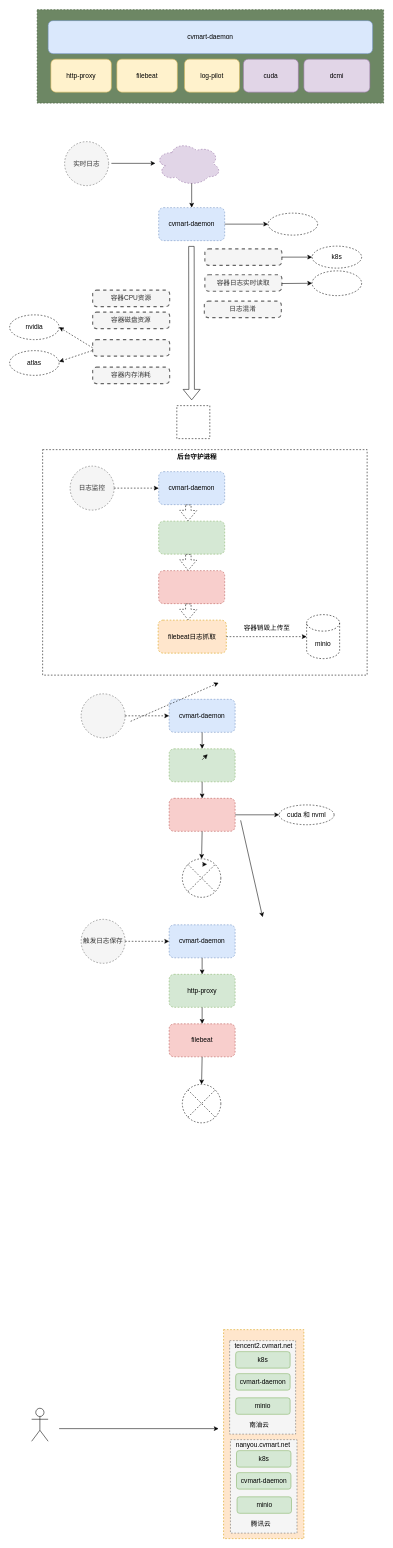
Image size: 393x1548. Some labels were removed from this diagram. The shapes that lost their labels are listed below. From the top down, each one's centre as x and y in pixels, then its label:
At point (188, 163): "loadBalance".
At point (293, 224): "注册长连接".
At point (243, 257): "POD发起进度监控".
At point (337, 283): "docker".
At point (131, 347): "GPU使用情况".
At point (193, 422): "xterm 终端渲染".
At point (191, 537): "监控本机容器发起事件".
At point (191, 587): "生成日志抓取配置".
At point (103, 715): "GPU检测".
At point (202, 765): "http-proxy代理".
At point (202, 814): "检测GPU".
At point (39, 1424): "用户".
